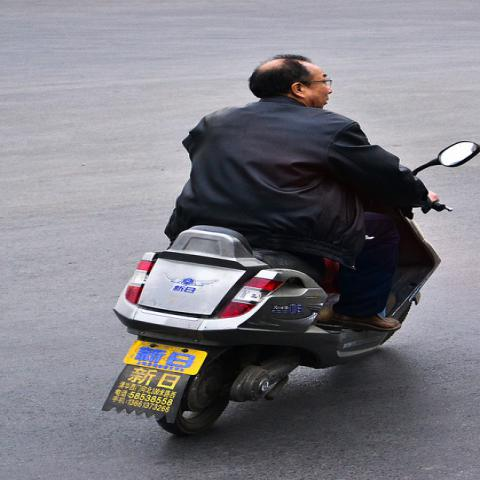motorcycle: (102, 209, 435, 433)
